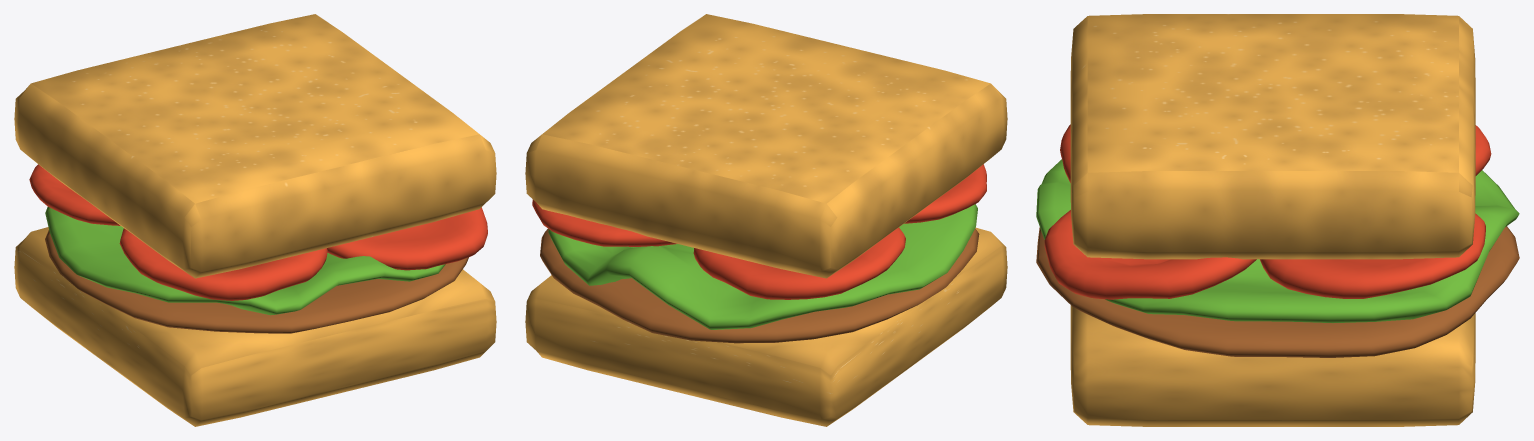
The model's file is Sandwich.glb.
3 views of the same model, side by side, from view 1: azimuth 30°, elevation 25°; view 2: azimuth 150°, elevation 25°; view 3: azimuth 270°, elevation 25° (orthographic). The views are drawn at different scales.
Parts seen in each view (by area): view 1: top_bun; view 2: top_bun; view 3: top_bun.
Boxes of the visible parts, x1,y1,x2,y2 form: top_bun: (14,14,496,426); top_bun: (525,14,1007,426); top_bun: (1036,14,1519,426).
Bounding box in the file's own units: 2.37 × 1.41 × 2.38.
4 materials, 1 textured.
